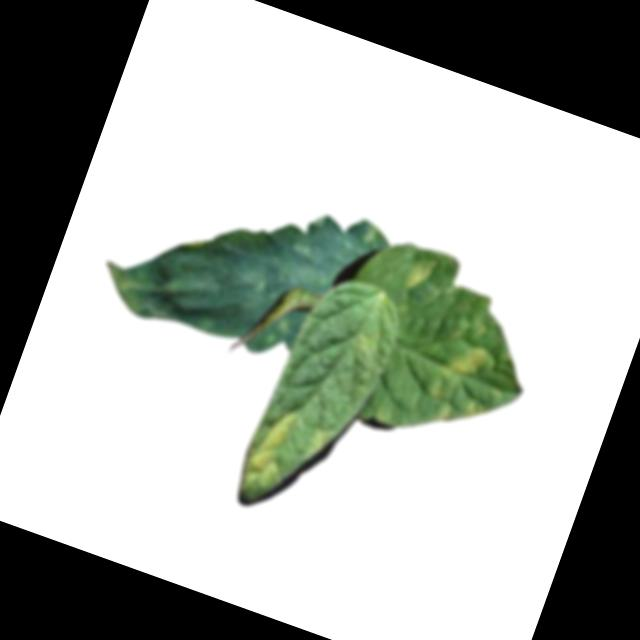Leaf_Mold: (90, 142, 391, 385), (237, 400, 308, 496), (443, 338, 492, 383), (395, 248, 436, 295)
